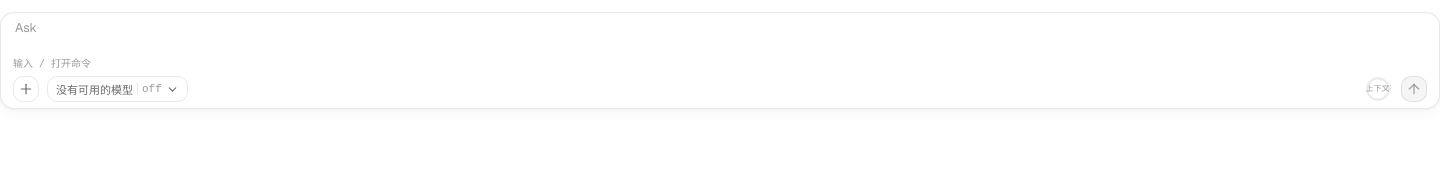
Test: Composer file mentions › allows a selected file tag to be removed without losing the surrounding text
The width and height of the screenshot is (1440, 172).
Type "before @" into the dropdown with placeholder "Ask" at (720, 35), box [13,17,1427,53]
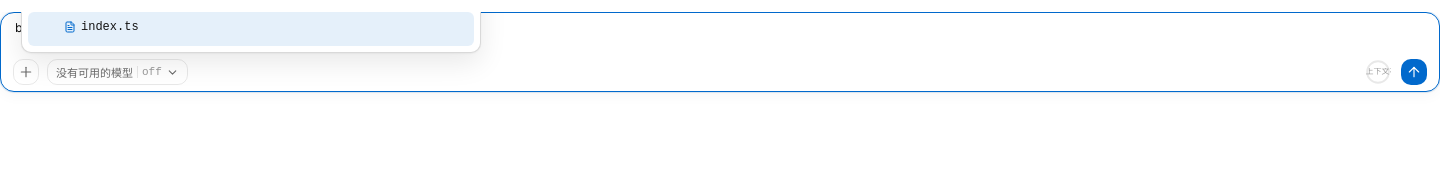
Click the option "index.ts" at (110, 26), box [28,12,474,46]
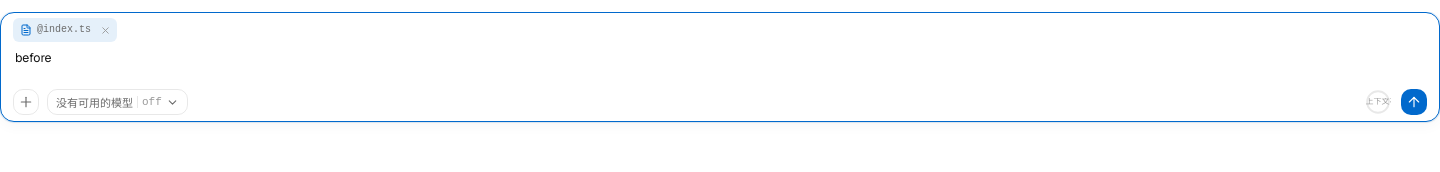
Replace the text in the dropdown with placeholder "Ask" with "before after" at (720, 65), box [13,47,1427,83]
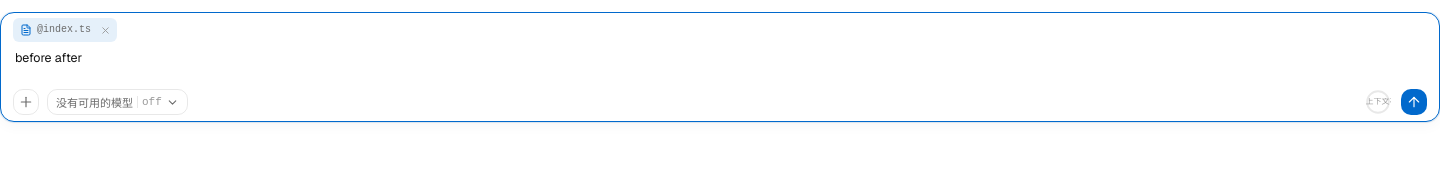
expect the button named "移除文件引用 src/index.ts" is shown: met
Click the button named "移除文件引用 src/index.ts" at (105, 30), box [96,21,114,39]
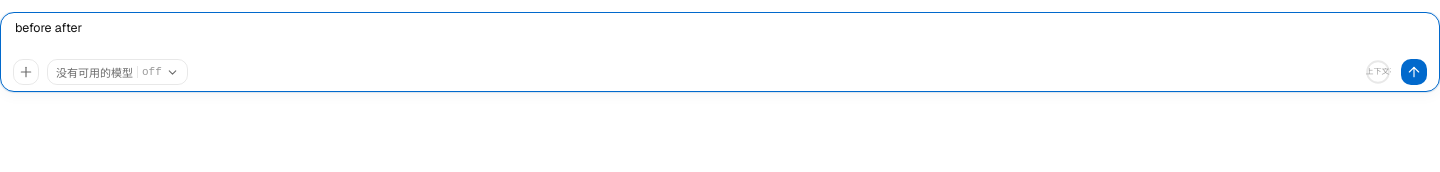
expect the field labelled "已引用文件" is gone: met
